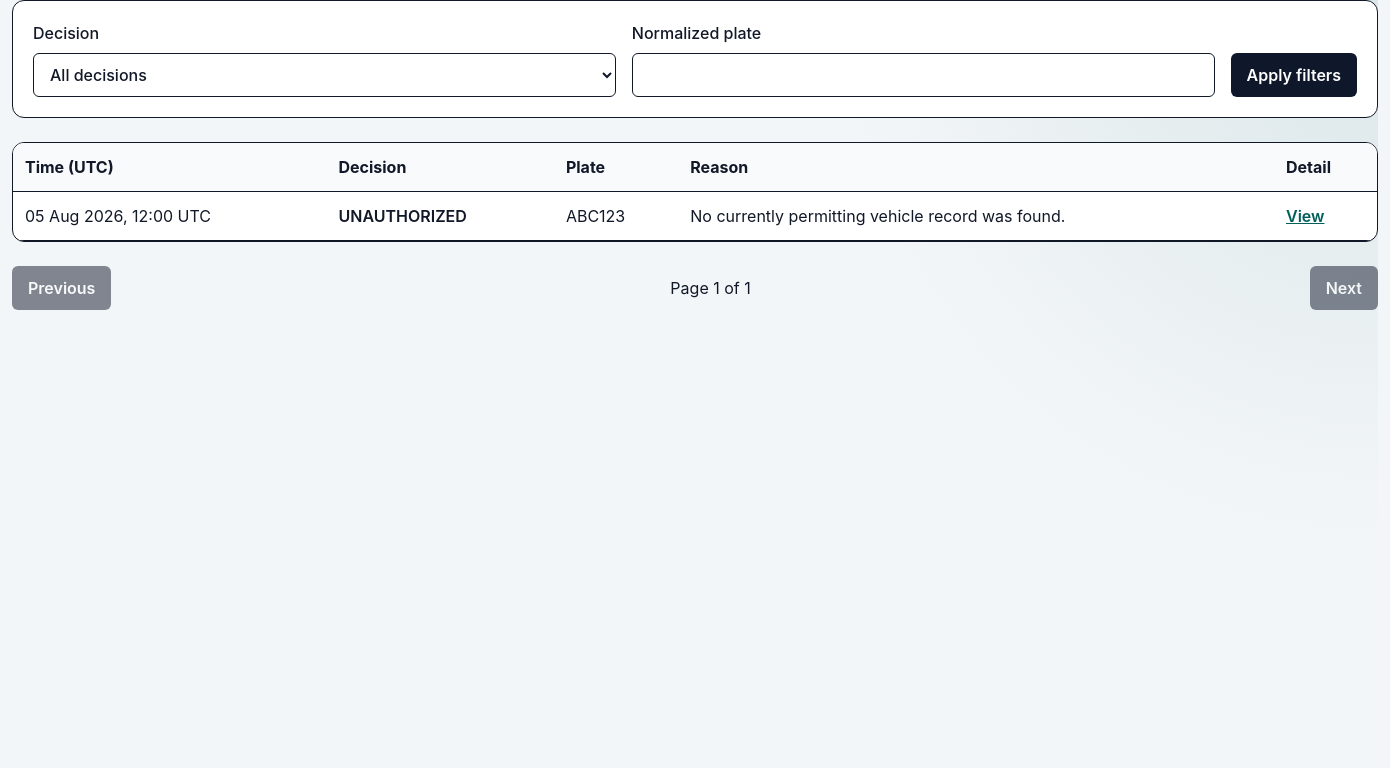
Test: Day 14 operational views › prevents an older detail request from overwriting a newer selection
expect the text "ABC123" is shown: met, box [554,192,678,240]
Step 1. Click the button "View" → {"x": 1305, "y": 216}, box [1286,204,1324,228]
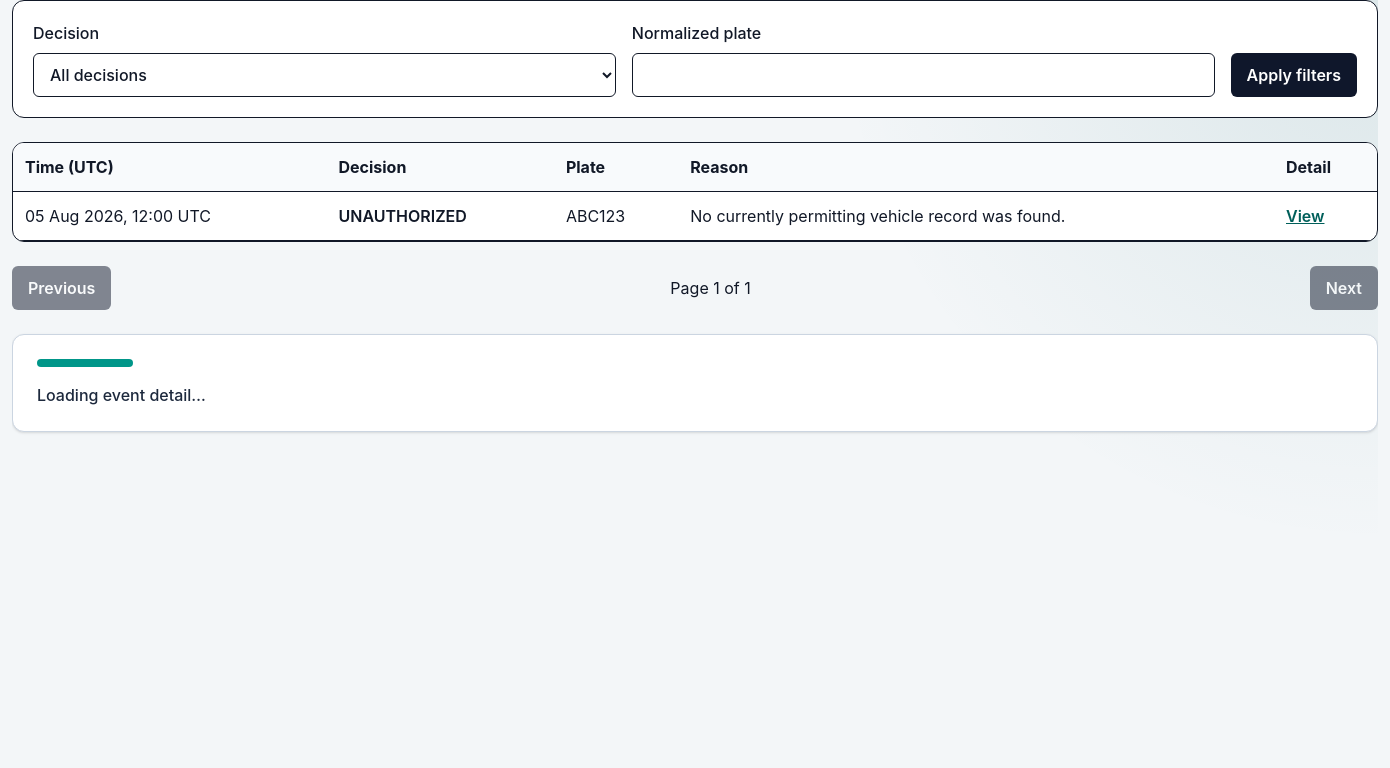
Step 2. Click the button "View" → {"x": 1305, "y": 216}, box [1286,204,1324,228]
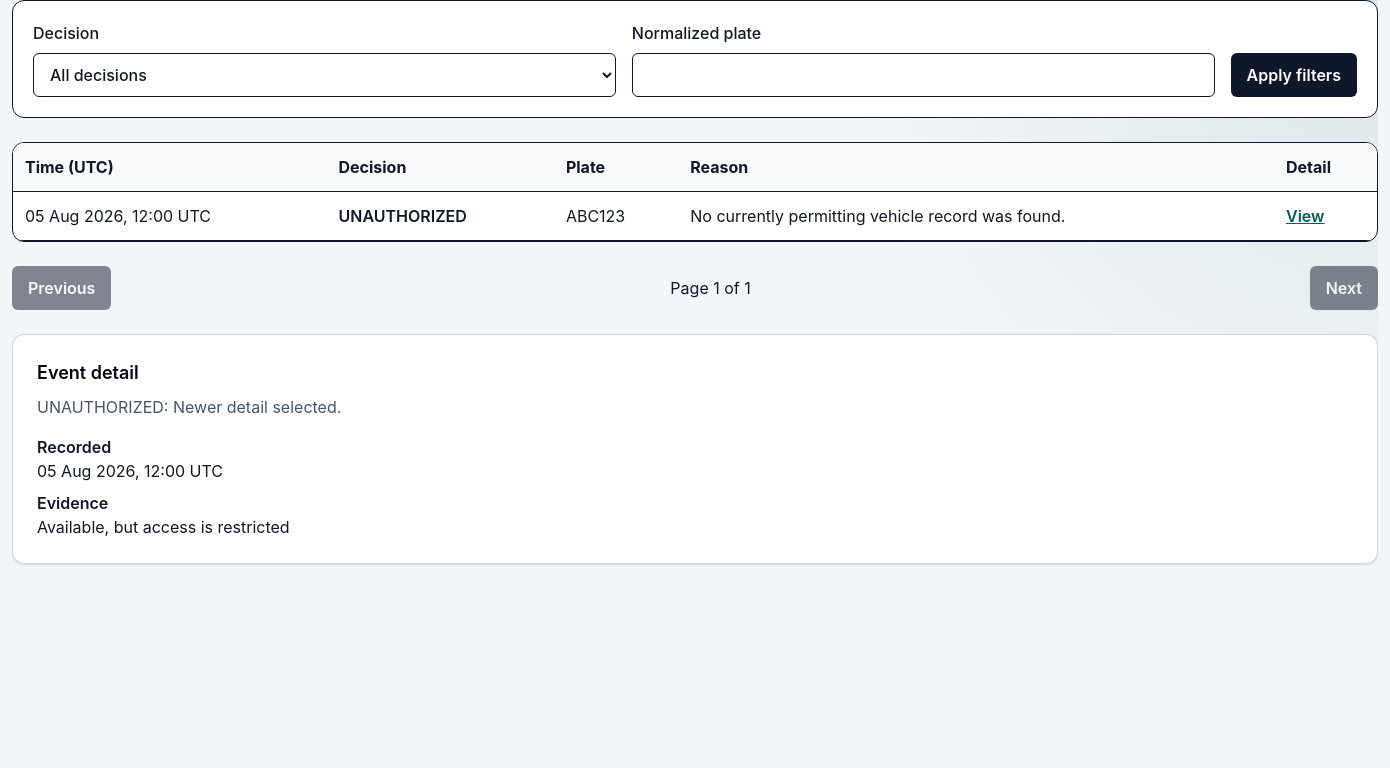
expect the text "UNAUTHORIZED: Newer detail selected." is shown: met, box [37,397,341,417]
